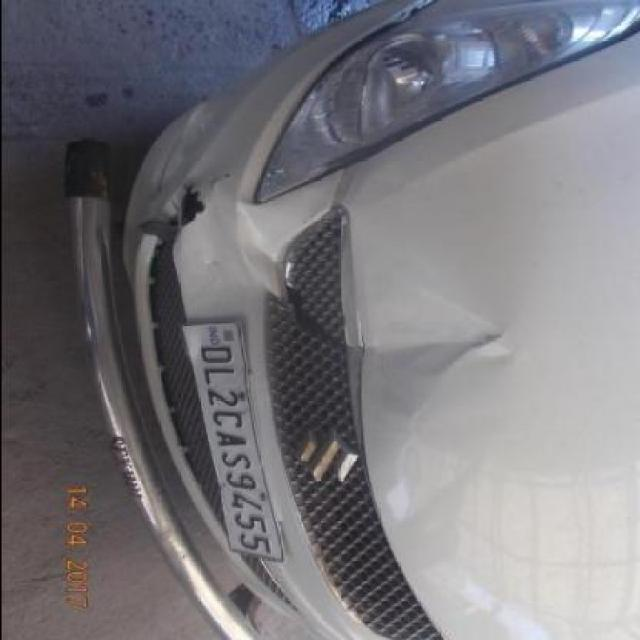damage: (358, 252, 508, 485), (271, 276, 350, 360), (232, 204, 284, 306), (131, 213, 188, 252), (170, 180, 206, 237)
